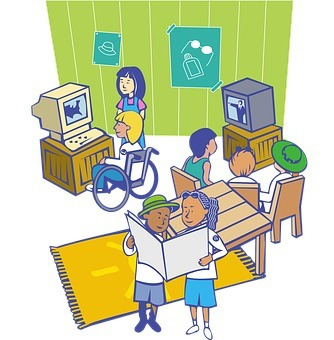chair: (261, 175, 310, 240)
person: (122, 193, 176, 335), (179, 187, 227, 334), (85, 109, 145, 192), (260, 137, 307, 215), (112, 62, 152, 145), (178, 121, 217, 185), (226, 145, 259, 183)
tvmonitor: (27, 76, 108, 151), (213, 70, 280, 136)
